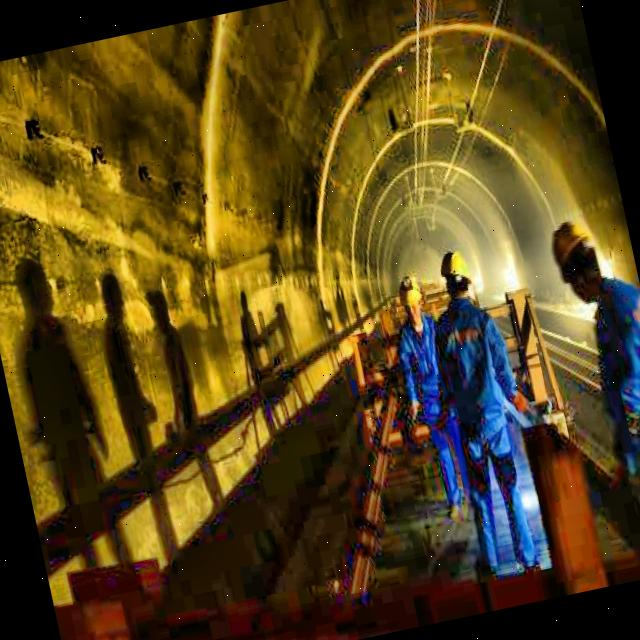helmet: (544, 212, 611, 306), (436, 245, 481, 312), (390, 262, 431, 332)
